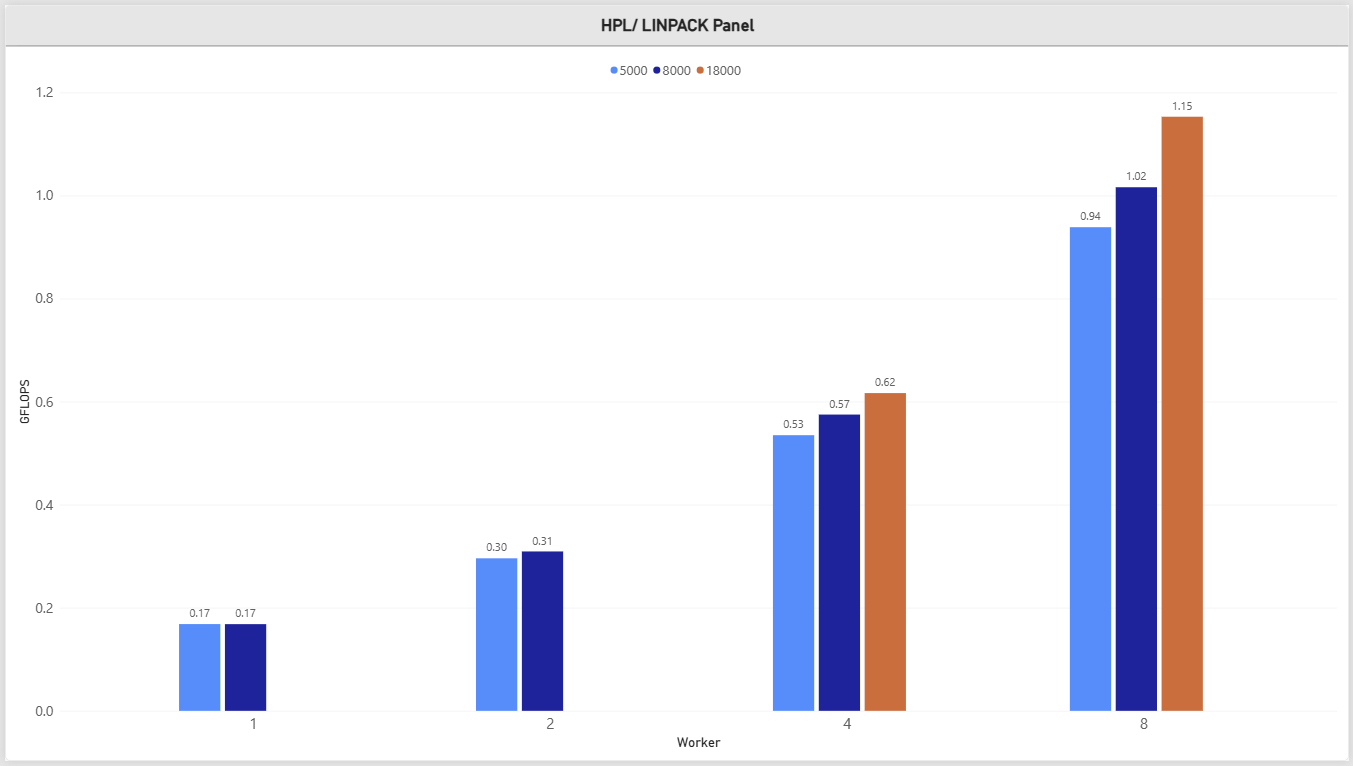

Layout of this report page (visuals, bound fields, positions):
{"tool":"powerbi","page":{"name":"HPL","canvas":[1920,1080],"ordinal":0},"visuals":[{"type":"clusteredColumnChart","title":"HPL/LINPACK Performance","fields":{"Category":["HPLMessungen.Worker"],"Series":["HPLMessungen.Matrixgröße N"],"Y":["Sum(HPLMessungen.Ø GFLOPS)"]},"box":[0,0,1920,1080],"z":0}]}

Visuals, with their boxes in screenshot pixels (x1, y1, x2, y2), scaled from the page's 1920x1080 canvas onto the 1353x766 screenshot:
"HPL/LINPACK Performance" clusteredColumnChart: bbox=[0, 0, 1352, 765]
